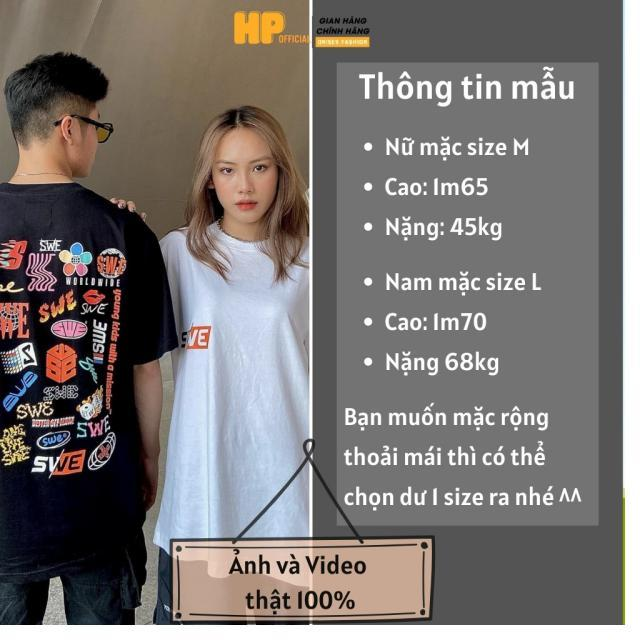Shirt: (136, 212, 354, 590), (0, 177, 183, 577)
